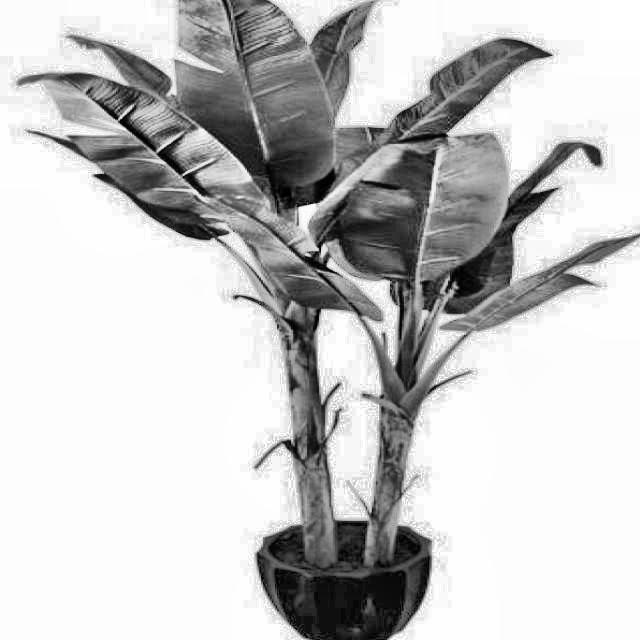plants: (83, 9, 558, 548)
